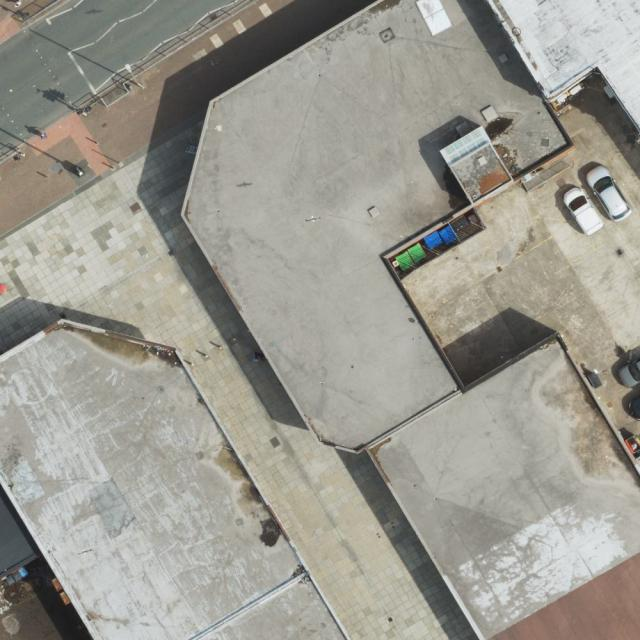roof: (183, 2, 640, 640), (0, 321, 351, 640)
skylight: (438, 125, 495, 169)
